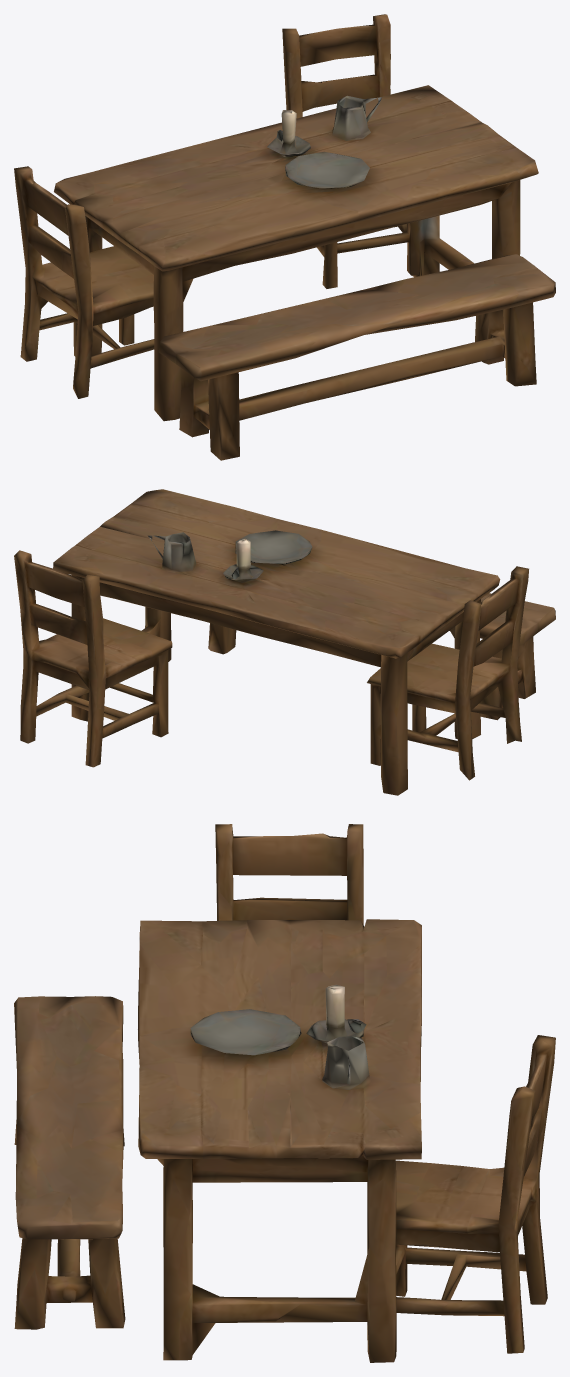
File: prop_table_set.glb
3 views of the same model, one above another, from view 1: azimuth 30°, elevation 25°; view 2: azimuth 150°, elevation 25°; view 3: azimuth 270°, elevation 25° (orthographic). The views are drawn at different scales.
Visible parts, largest first — view 1: tripo_node_c2253812-9091-4e82-a2ef-bef1d16396ff; view 2: tripo_node_c2253812-9091-4e82-a2ef-bef1d16396ff; view 3: tripo_node_c2253812-9091-4e82-a2ef-bef1d16396ff.
Part boxes in pixels (box(x1,y1,x2,y2)): tripo_node_c2253812-9091-4e82-a2ef-bef1d16396ff: box(14, 14, 555, 460); tripo_node_c2253812-9091-4e82-a2ef-bef1d16396ff: box(14, 489, 555, 795); tripo_node_c2253812-9091-4e82-a2ef-bef1d16396ff: box(14, 824, 555, 1362).
Size of the model in its own units: 0.9997 by 0.4711 by 0.8394.
Materials: 1 (1 with a texture image).
